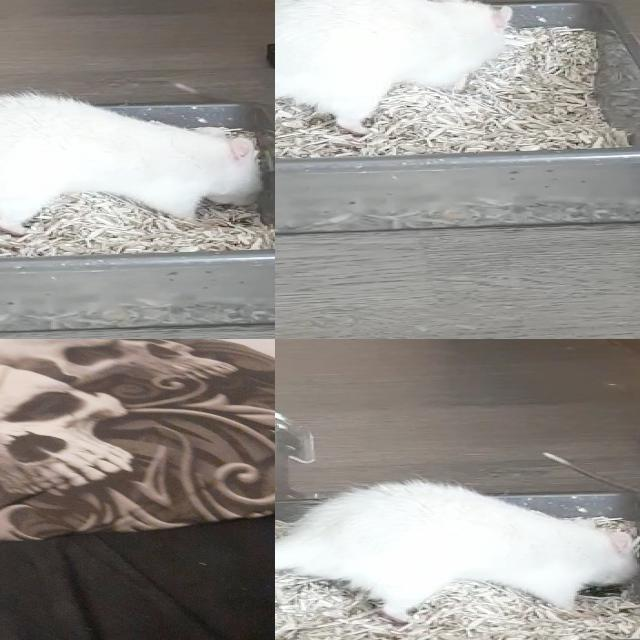rat: (275, 482, 640, 614), (0, 96, 262, 232), (275, 0, 511, 130)
